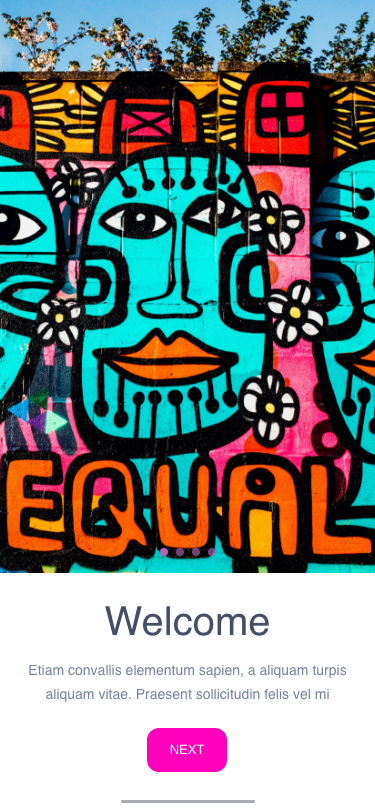Image: (2, 1, 375, 573)
Text: (30, 664, 347, 703), (105, 606, 270, 637)
TextButton: (147, 727, 228, 772)
